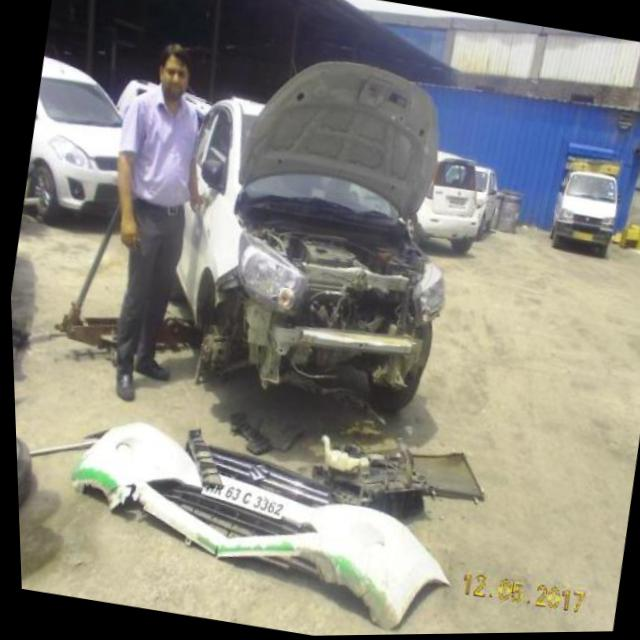Car-Damage: (203, 254, 451, 425)
